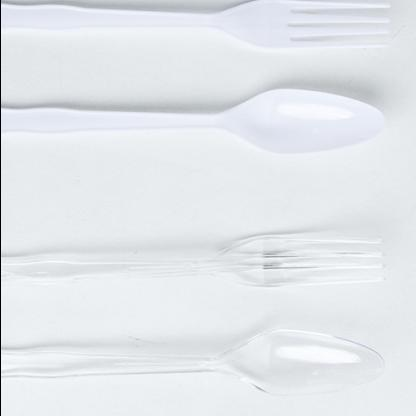Others: (0, 0, 392, 154)
